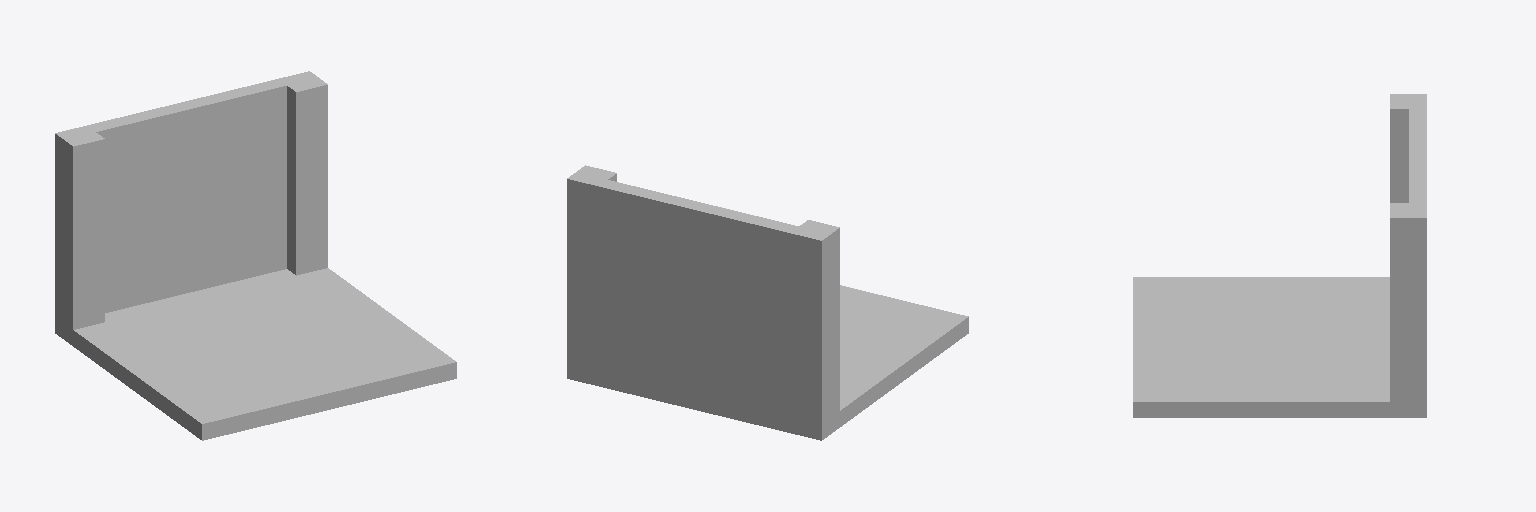
Rendered from Wall.obj.
The picture shows the model from 3 angles: view 1: azimuth 30°, elevation 25°; view 2: azimuth 150°, elevation 25°; view 3: azimuth 270°, elevation 25°; orthographic projection.
Parts seen in each view (by area): view 1: Cube.001_Cube.002; view 2: Cube.001_Cube.002; view 3: Cube.001_Cube.002.
Boxes of the visible parts, x1=… form: Cube.001_Cube.002: x1=55, y1=71, x2=456, y2=440; Cube.001_Cube.002: x1=567, y1=165, x2=968, y2=440; Cube.001_Cube.002: x1=1133, y1=94, x2=1426, y2=417.
Bounding box in the file's own units: 16 × 12 × 16.